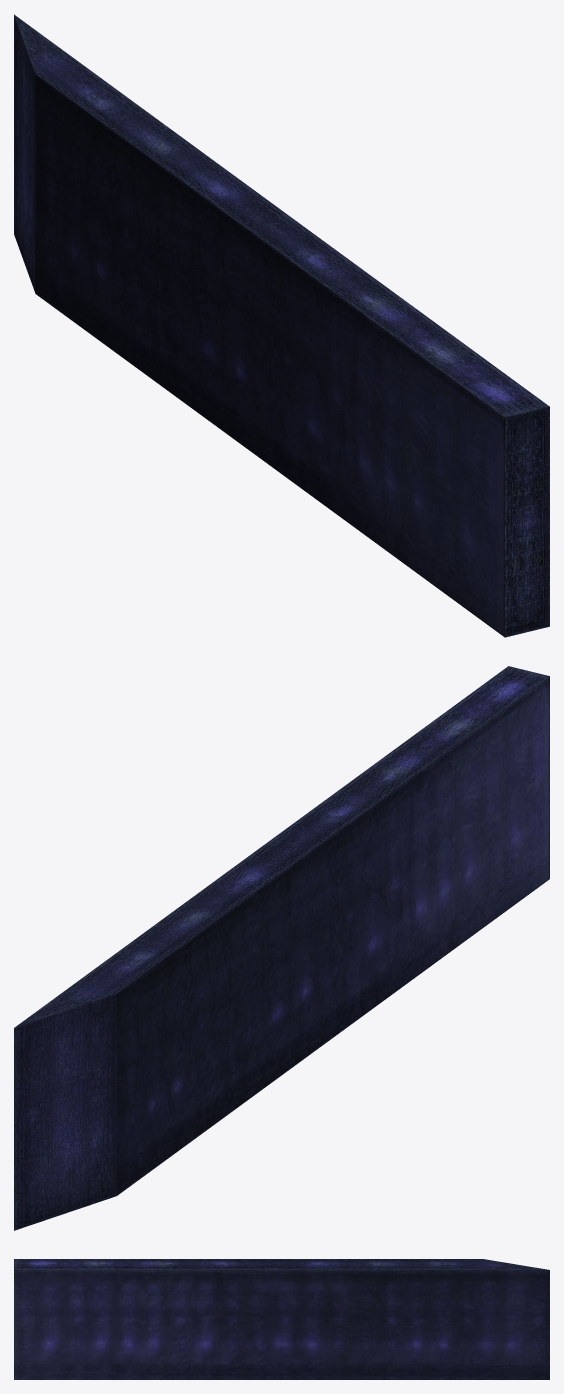
File: raque_side_lvl_4.glb
The picture shows the model from 3 angles, top to bottom: view 1: azimuth 30°, elevation 25°; view 2: azimuth 150°, elevation 25°; view 3: azimuth 270°, elevation 25°; orthographic projection. The views are drawn at different scales.
Visible parts, largest first — view 1: Mesh_0; view 2: Mesh_0; view 3: Mesh_0.
Boxes of the visible parts, box(x1,y1,x2,y2) form: Mesh_0: box(14, 14, 549, 637); Mesh_0: box(14, 666, 549, 1230); Mesh_0: box(14, 1259, 549, 1379).
Bounding box in the file's own units: 0.00928 × 0.0433 × 0.1914.
Materials: 1 (1 with a texture image).
